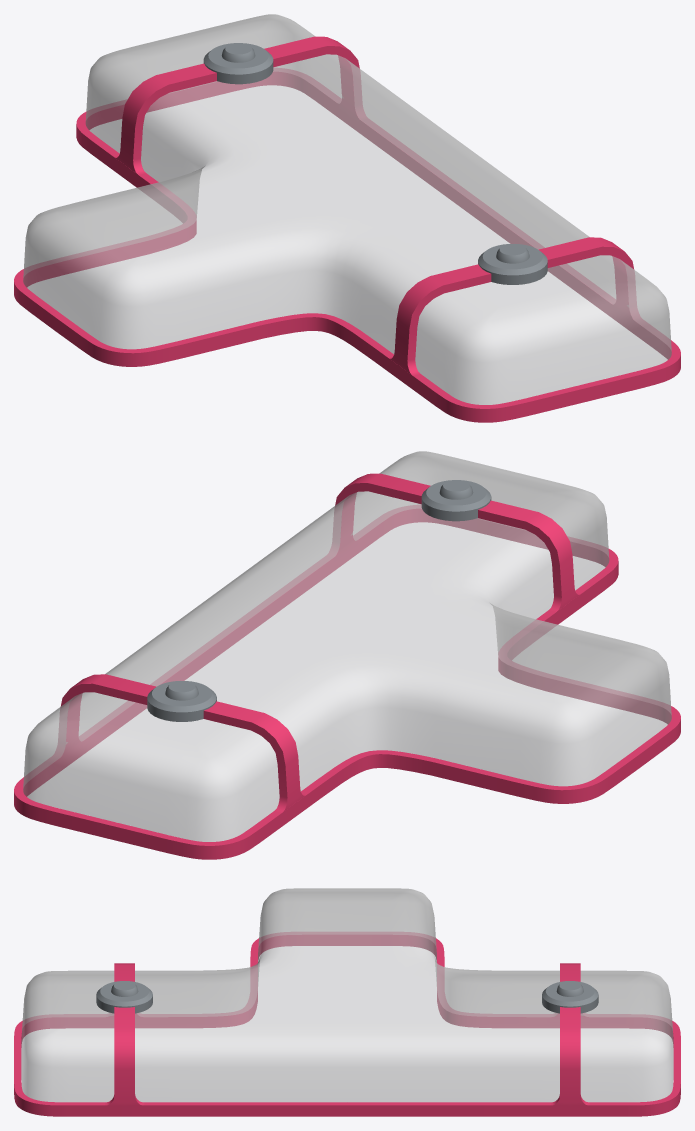
Rendered from hop_T_1_T2.fbx.
The picture shows the model from 3 angles, top to bottom: view 1: azimuth 30°, elevation 25°; view 2: azimuth 150°, elevation 25°; view 3: azimuth 270°, elevation 25°; orthographic projection. The views are drawn at different scales.
Parts seen in each view (by area): view 1: Cube.193, Cube.195, Cylinder.254, Cylinder.249; view 2: Cube.193, Cube.195, Cylinder.249, Cylinder.254; view 3: Cube.193, Cube.195, Cylinder.249, Cylinder.254.
Boxes of the visible parts, box(x1,y1,x2,y2) form: Cube.193: box(23, 14, 671, 404); Cube.195: box(14, 36, 680, 422); Cylinder.254: box(203, 43, 273, 84); Cylinder.249: box(478, 244, 547, 284); Cube.193: box(23, 451, 671, 841); Cube.195: box(14, 473, 680, 859); Cylinder.249: box(421, 480, 491, 521); Cylinder.254: box(147, 681, 216, 721); Cube.193: box(21, 888, 673, 1102); Cube.195: box(14, 932, 680, 1116); Cylinder.249: box(96, 981, 152, 1013); Cylinder.254: box(542, 981, 598, 1013).
Size of the model in its own units: 332 by 75 by 539.
